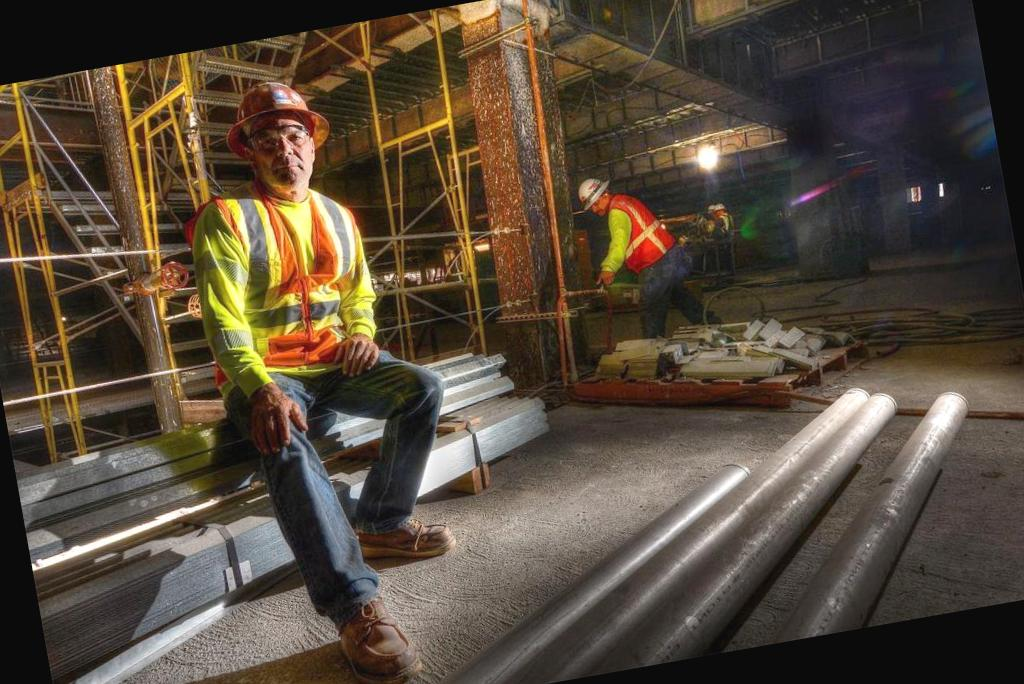helmet: (212, 64, 346, 190), (570, 164, 622, 222)
person: (151, 56, 499, 684), (564, 149, 710, 374)
